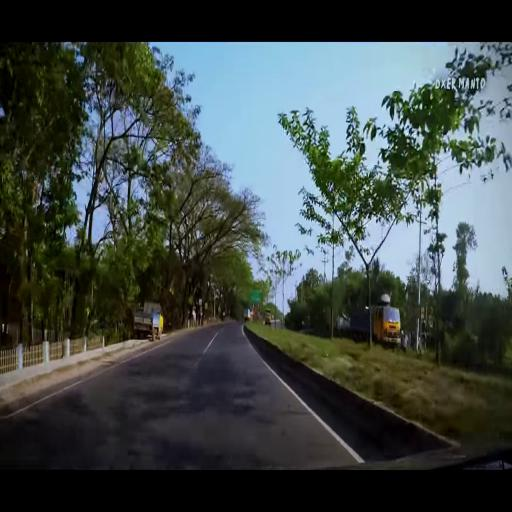pickup: (132, 299, 165, 343)
truck: (350, 293, 406, 348)
